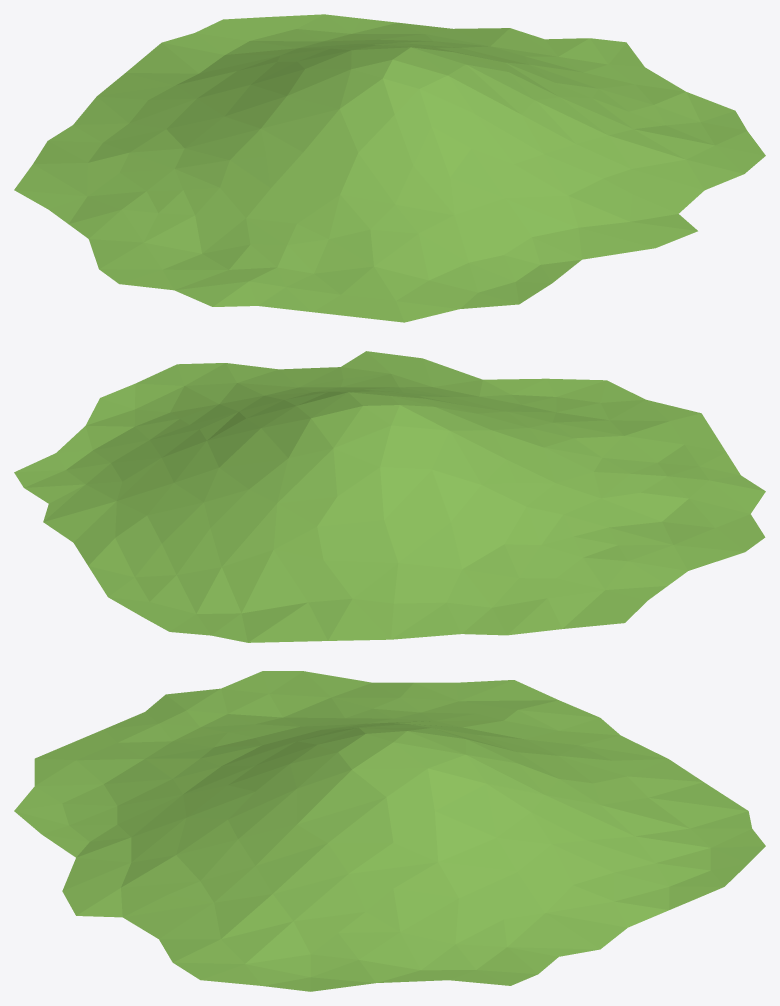
Rendered from MT_Mountain_M_a_09.fbx.
3 views of the same model, one above another, from view 1: azimuth 30°, elevation 25°; view 2: azimuth 150°, elevation 25°; view 3: azimuth 270°, elevation 25° (orthographic). The views are drawn at different scales.
Parts seen in each view (by area): view 1: MT_Mountain_M_a_09; view 2: MT_Mountain_M_a_09; view 3: MT_Mountain_M_a_09.
Boxes of the visible parts, x1,y1,x2,y2 form: MT_Mountain_M_a_09: (14, 14, 765, 322); MT_Mountain_M_a_09: (14, 351, 765, 642); MT_Mountain_M_a_09: (14, 671, 765, 991).
Bounding box in the file's own units: 4297 × 631 × 4258.
